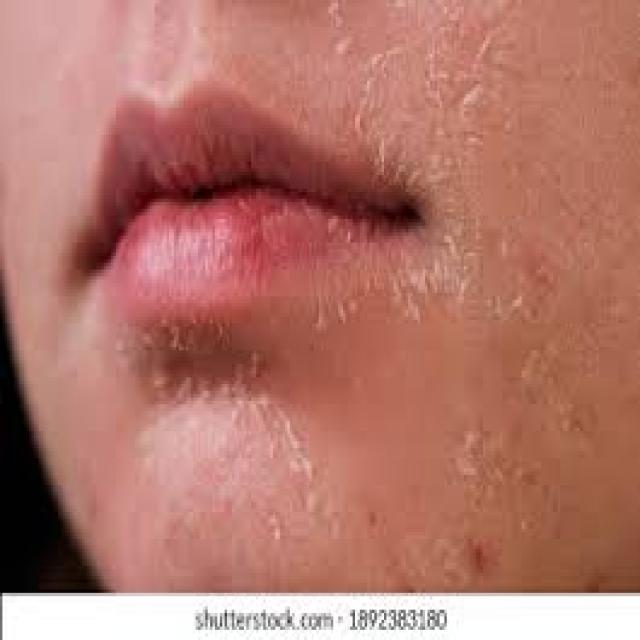flakiness: (138, 326, 319, 512), (328, 12, 496, 173), (373, 236, 484, 354)
